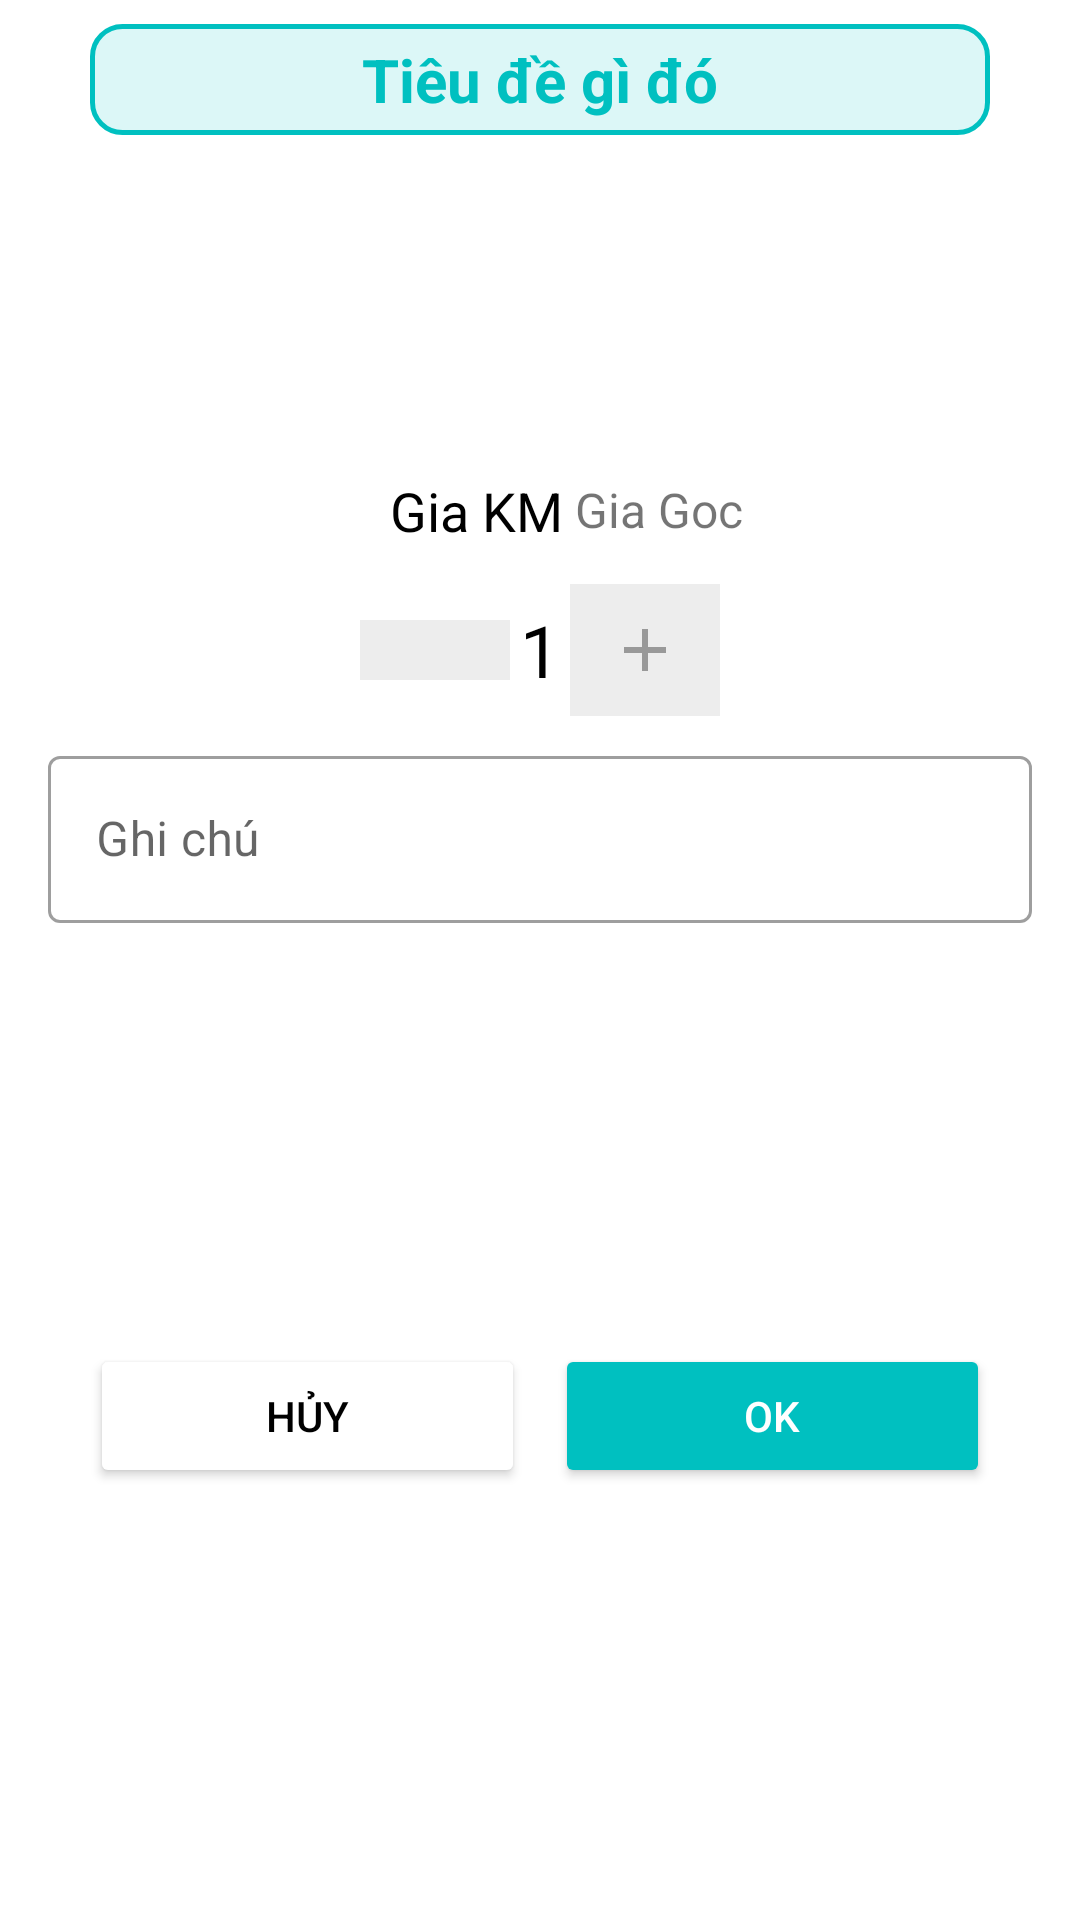

Screen size 1080w x 1920h. Icon name, then its center in pixels as point (x, y):
add: point (645, 650)
